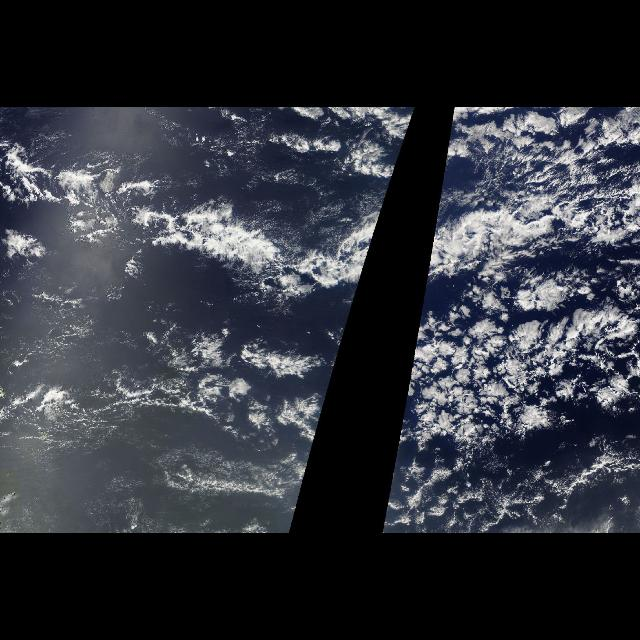Fish: (0, 119, 402, 314), (421, 147, 463, 313)
Flower: (393, 291, 637, 457)
Sugar: (2, 420, 316, 532)
